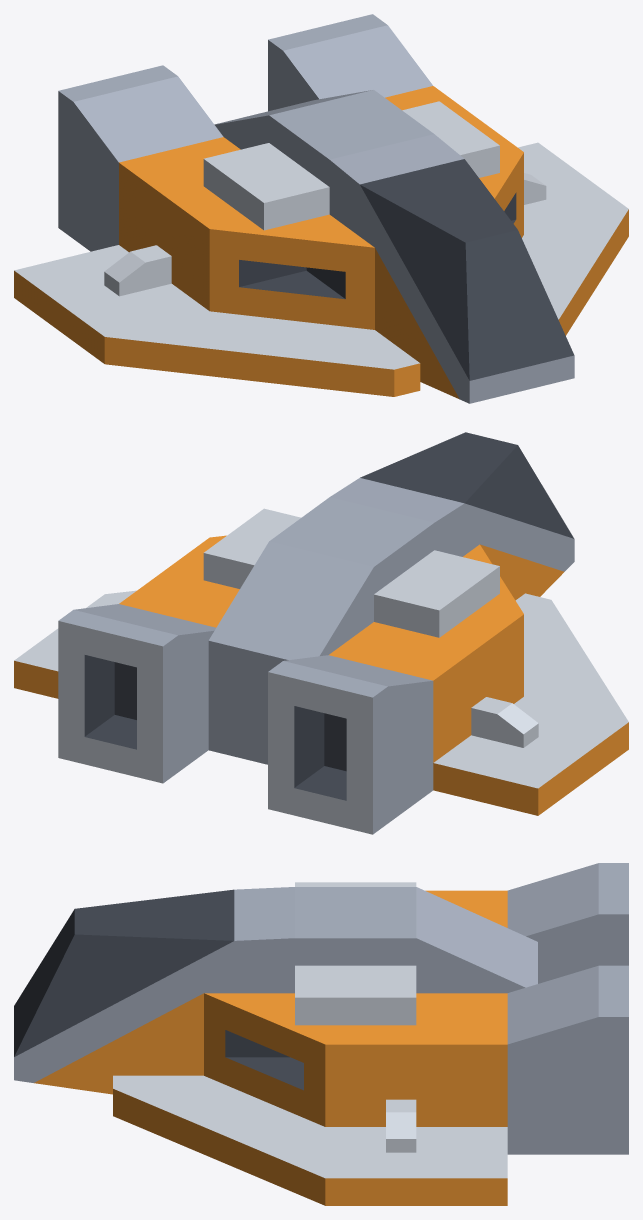
The model's file is craft_speederB.dae.
The picture shows the model from 3 angles, top to bottom: view 1: azimuth 30°, elevation 25°; view 2: azimuth 150°, elevation 25°; view 3: azimuth 270°, elevation 25°; orthographic projection.
Parts seen in each view (by area): view 1: craft_speederB; view 2: craft_speederB; view 3: craft_speederB.
Part boxes in pixels (x1,y1,x2,y2): craft_speederB: [14, 14, 628, 403]; craft_speederB: [14, 432, 628, 834]; craft_speederB: [14, 863, 628, 1205].
Size of the model in its own units: 2 by 0.6 by 2.03.
